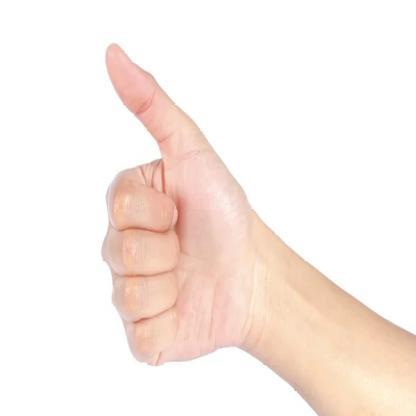thumb_up: (100, 40, 254, 370)
